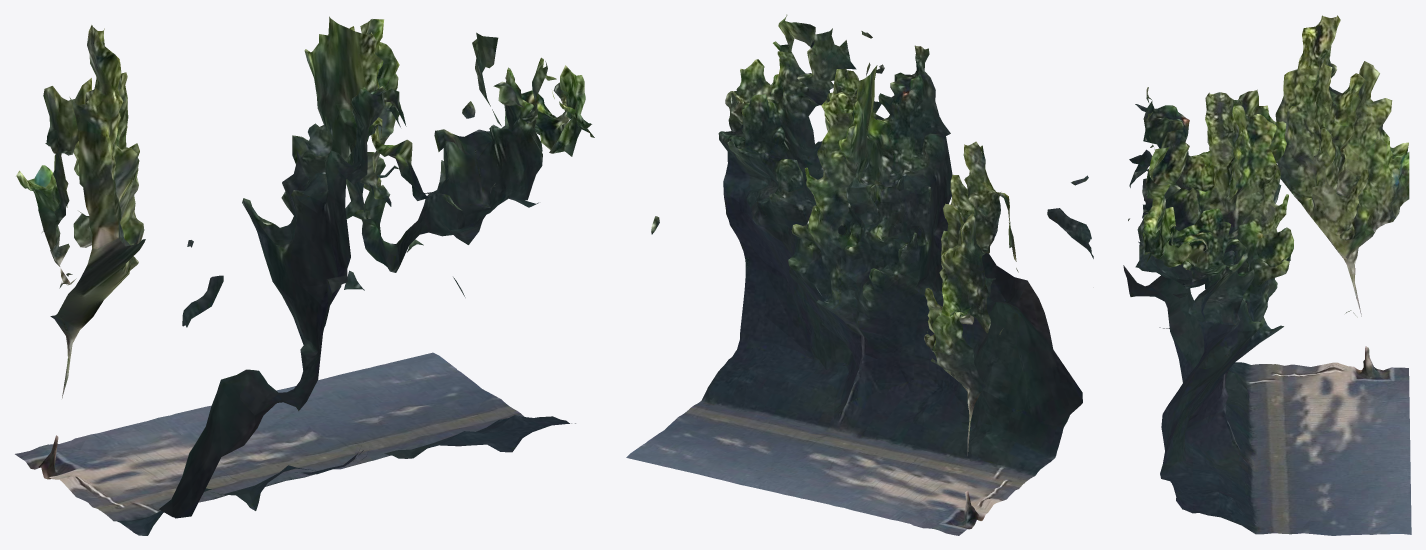
File: Tile_+006_+007_L22_0002240.glb
The picture shows the model from 3 angles, left to right: view 1: azimuth 30°, elevation 25°; view 2: azimuth 150°, elevation 25°; view 3: azimuth 270°, elevation 25°; orthographic projection. The views are drawn at different scales.
Visible parts, largest first — view 1: rtc; view 2: rtc; view 3: rtc.
Part boxes in pixels (x1=…): rtc: x1=15, y1=16, x2=594, y2=535; rtc: x1=626, y1=14, x2=1093, y2=535; rtc: x1=1123, y1=15, x2=1411, y2=535.
Bounding box in the file's own units: 9.01 × 9.37 × 6.61.
Materials: 1 (1 with a texture image).
